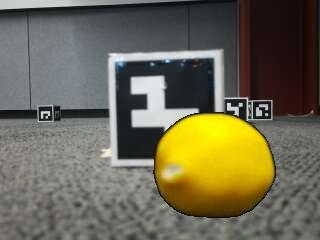lemon: (154, 112, 275, 216)
